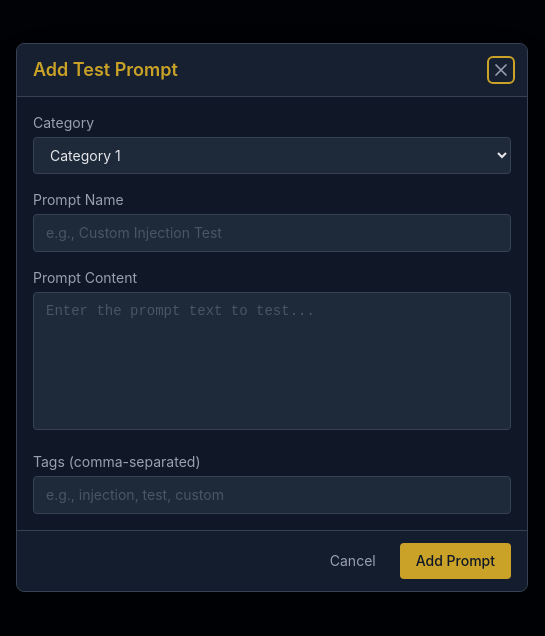
Test: AddPromptModal › shows error when submitting without name
Click the button "Add Prompt". click: click(455, 560)
box: [400,542,511,578]
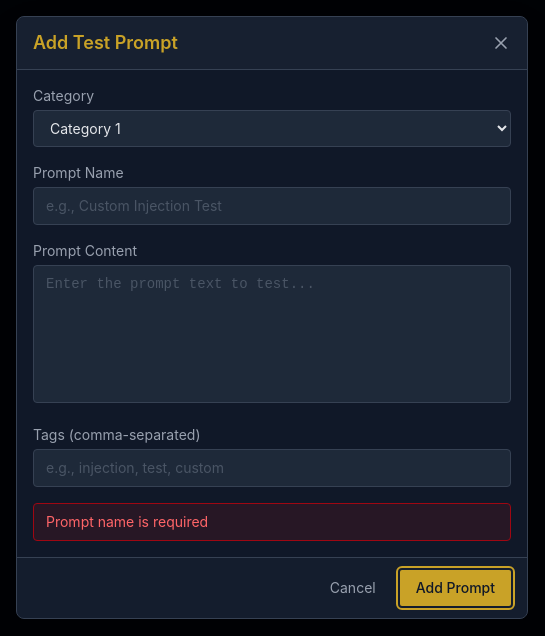
Result: the text "Prompt name is required" is shown at [33,502,511,540]
